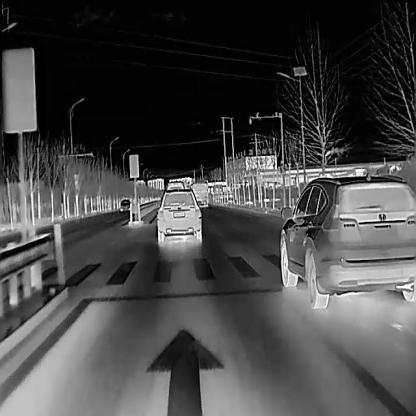car: (279, 169, 415, 308), (156, 185, 201, 243), (191, 182, 207, 206), (119, 198, 129, 211)
crosswalk: (52, 252, 280, 294)
